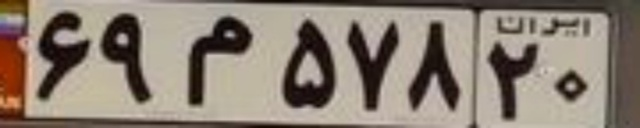0: (551, 67, 591, 105)
2: (483, 39, 545, 119)
5: (277, 18, 337, 109)
6: (33, 10, 91, 102)
7: (347, 16, 397, 112)
8: (405, 19, 466, 113)
9: (102, 12, 151, 103)
mim: (182, 13, 255, 105)
